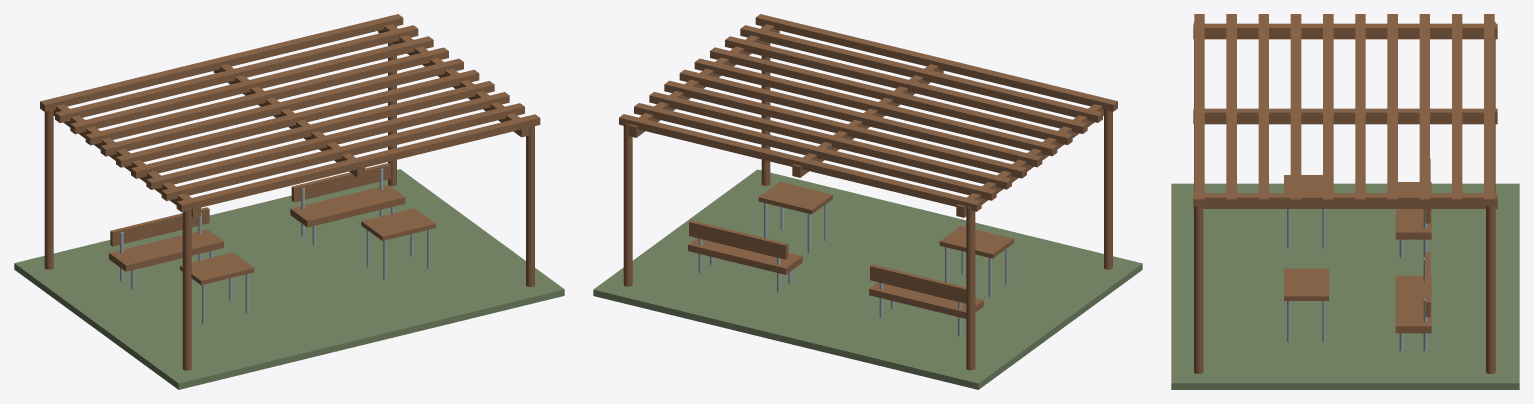
Rendered from scendance-plan-relax-zone.glb.
3 views of the same model, side by side, from view 1: azimuth 30°, elevation 25°; view 2: azimuth 150°, elevation 25°; view 3: azimuth 270°, elevation 25° (orthographic). The views are drawn at different scales.
Bounding box in the file's own units: 6.3 × 2.7 × 4.65.
